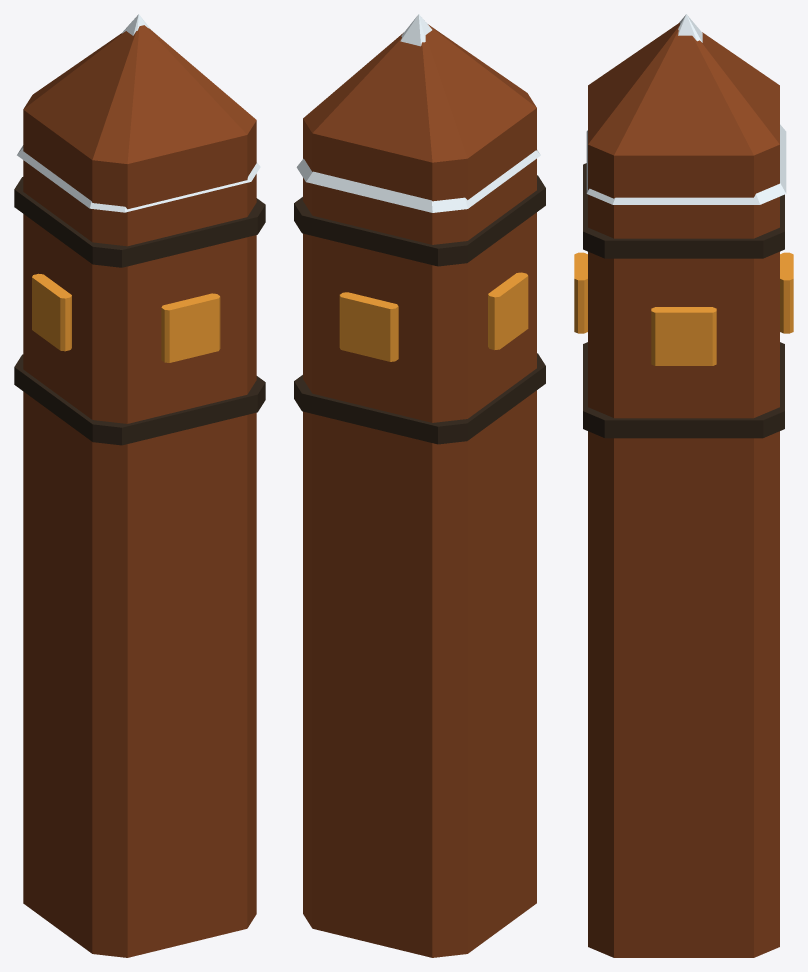
File: gate_post.obj
3 views of the same model, side by side, from view 1: azimuth 30°, elevation 25°; view 2: azimuth 150°, elevation 25°; view 3: azimuth 270°, elevation 25° (orthographic).
Parts seen in each view (by area): view 1: gate_post; view 2: gate_post; view 3: gate_post.
Boxes of the visible parts, x1,y1,x2,y2 form: gate_post: [14, 14, 265, 957]; gate_post: [294, 14, 545, 957]; gate_post: [574, 14, 793, 957].
Size of the model in its own units: 0.354 by 1.61 by 0.354.
